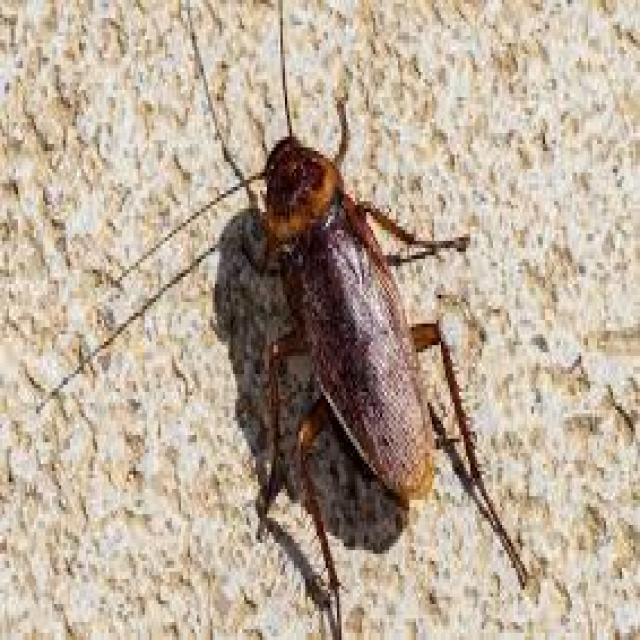Cockroach: (122, 0, 542, 640)
